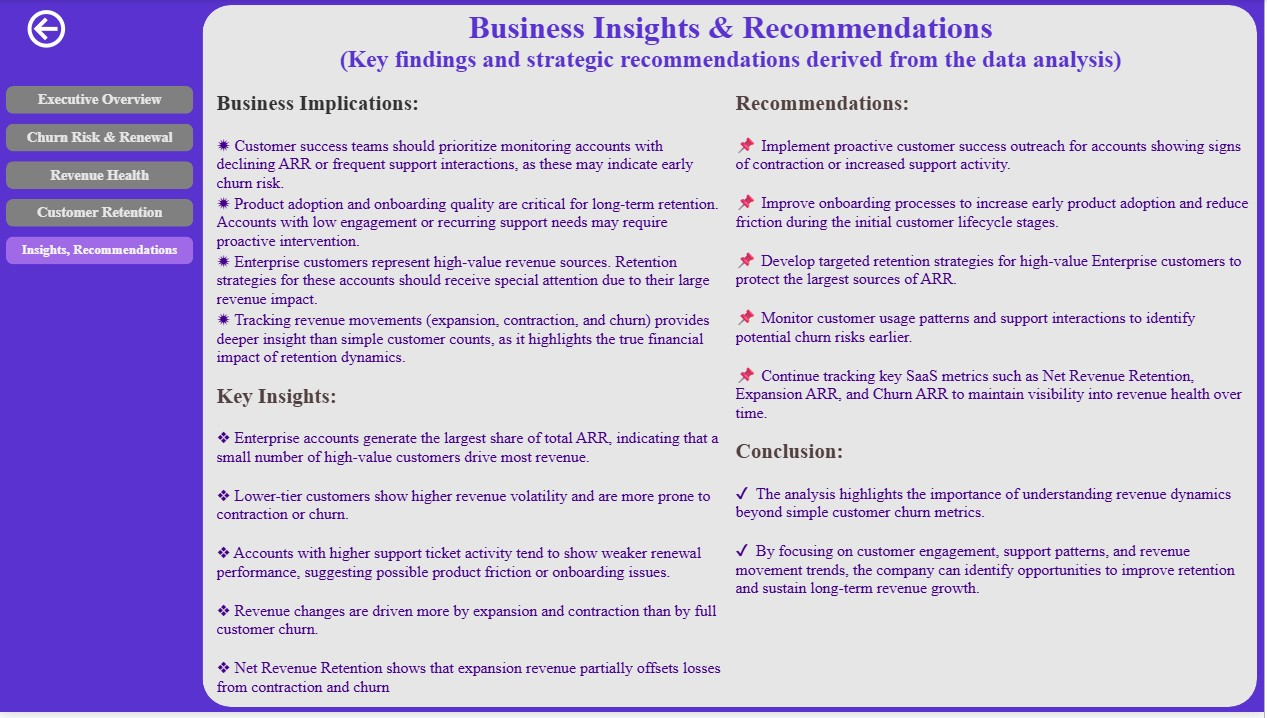

The page's visual inventory and layout, read from the dashboard file:
{"tool":"powerbi","page":{"name":"Insights, Recommendations","canvas":[1280,720],"ordinal":4},"visuals":[{"type":"shape","box":[207.4,6.1,1064.5,708.6],"z":0},{"type":"pageNavigator","box":[9.1,87.8,189.3,183.2],"z":1000},{"type":"textbox","box":[216.5,4.5,1047.8,96.9],"z":2000},{"type":"actionButton","box":[25.7,6.4,115.6,48.2],"z":3000},{"type":"textbox","box":[216.5,87.8,523.9,631.4],"z":6000},{"type":"textbox","box":[740.4,87.8,531.5,631.4],"z":7000}]}

Visuals, with their boxes in screenshot pixels (x1, y1, x2, y2), scaled from the page's 1280x720 canvas onto the 1267x718 screenshot:
shape: <region>205, 6, 1259, 713</region>
pageNavigator: <region>9, 88, 196, 270</region>
textbox: <region>214, 4, 1251, 101</region>
actionButton: <region>25, 6, 140, 54</region>
textbox: <region>214, 88, 733, 717</region>
textbox: <region>733, 88, 1259, 717</region>
